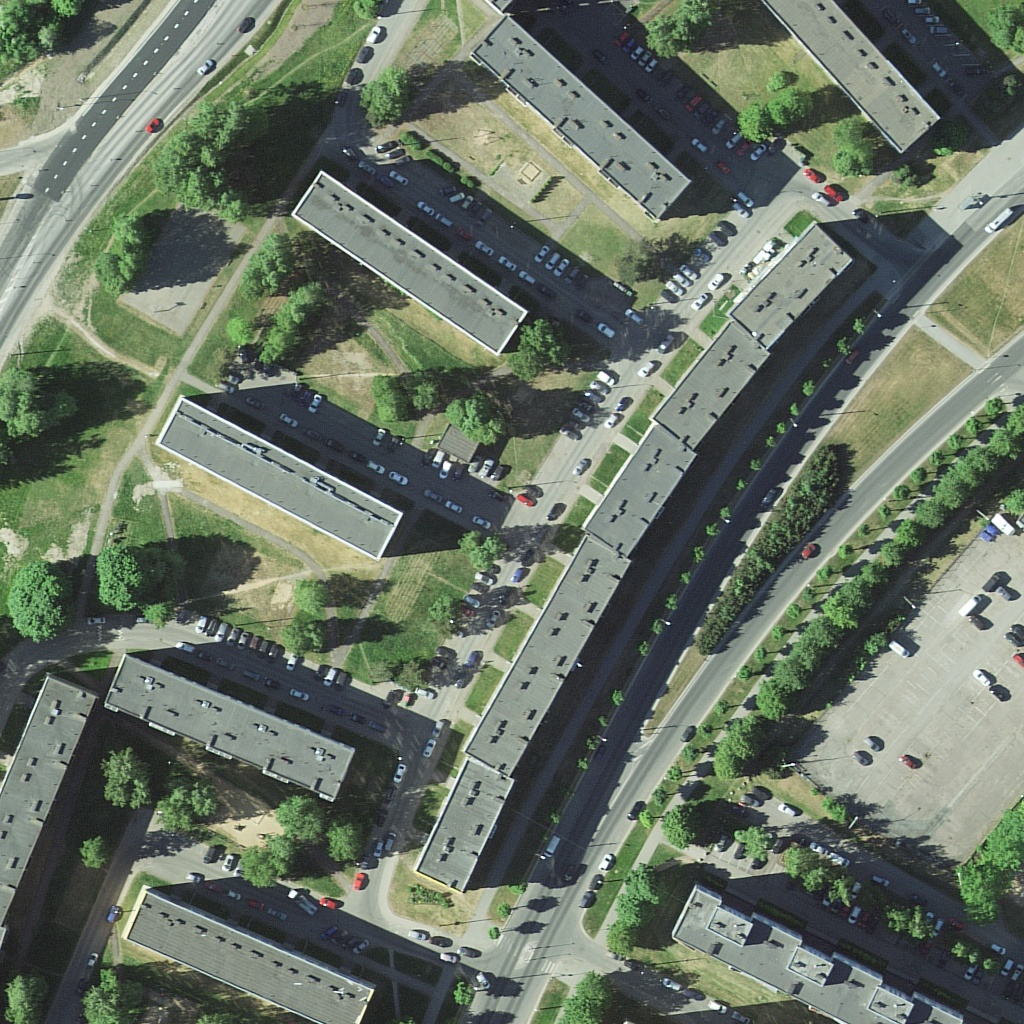building: (285, 172, 527, 361), (472, 24, 691, 226), (152, 393, 407, 563), (467, 537, 631, 778), (674, 881, 943, 1024), (107, 650, 356, 801), (125, 889, 363, 1024), (772, 1, 942, 159), (1, 670, 95, 917), (418, 751, 516, 897), (578, 430, 695, 552), (736, 228, 854, 346), (657, 328, 768, 446)
